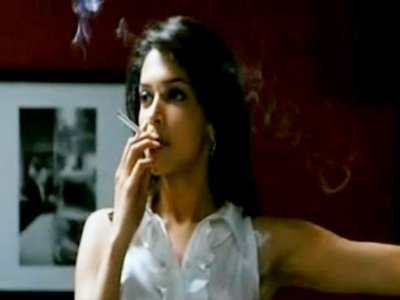cigarette: (105, 101, 162, 149)
